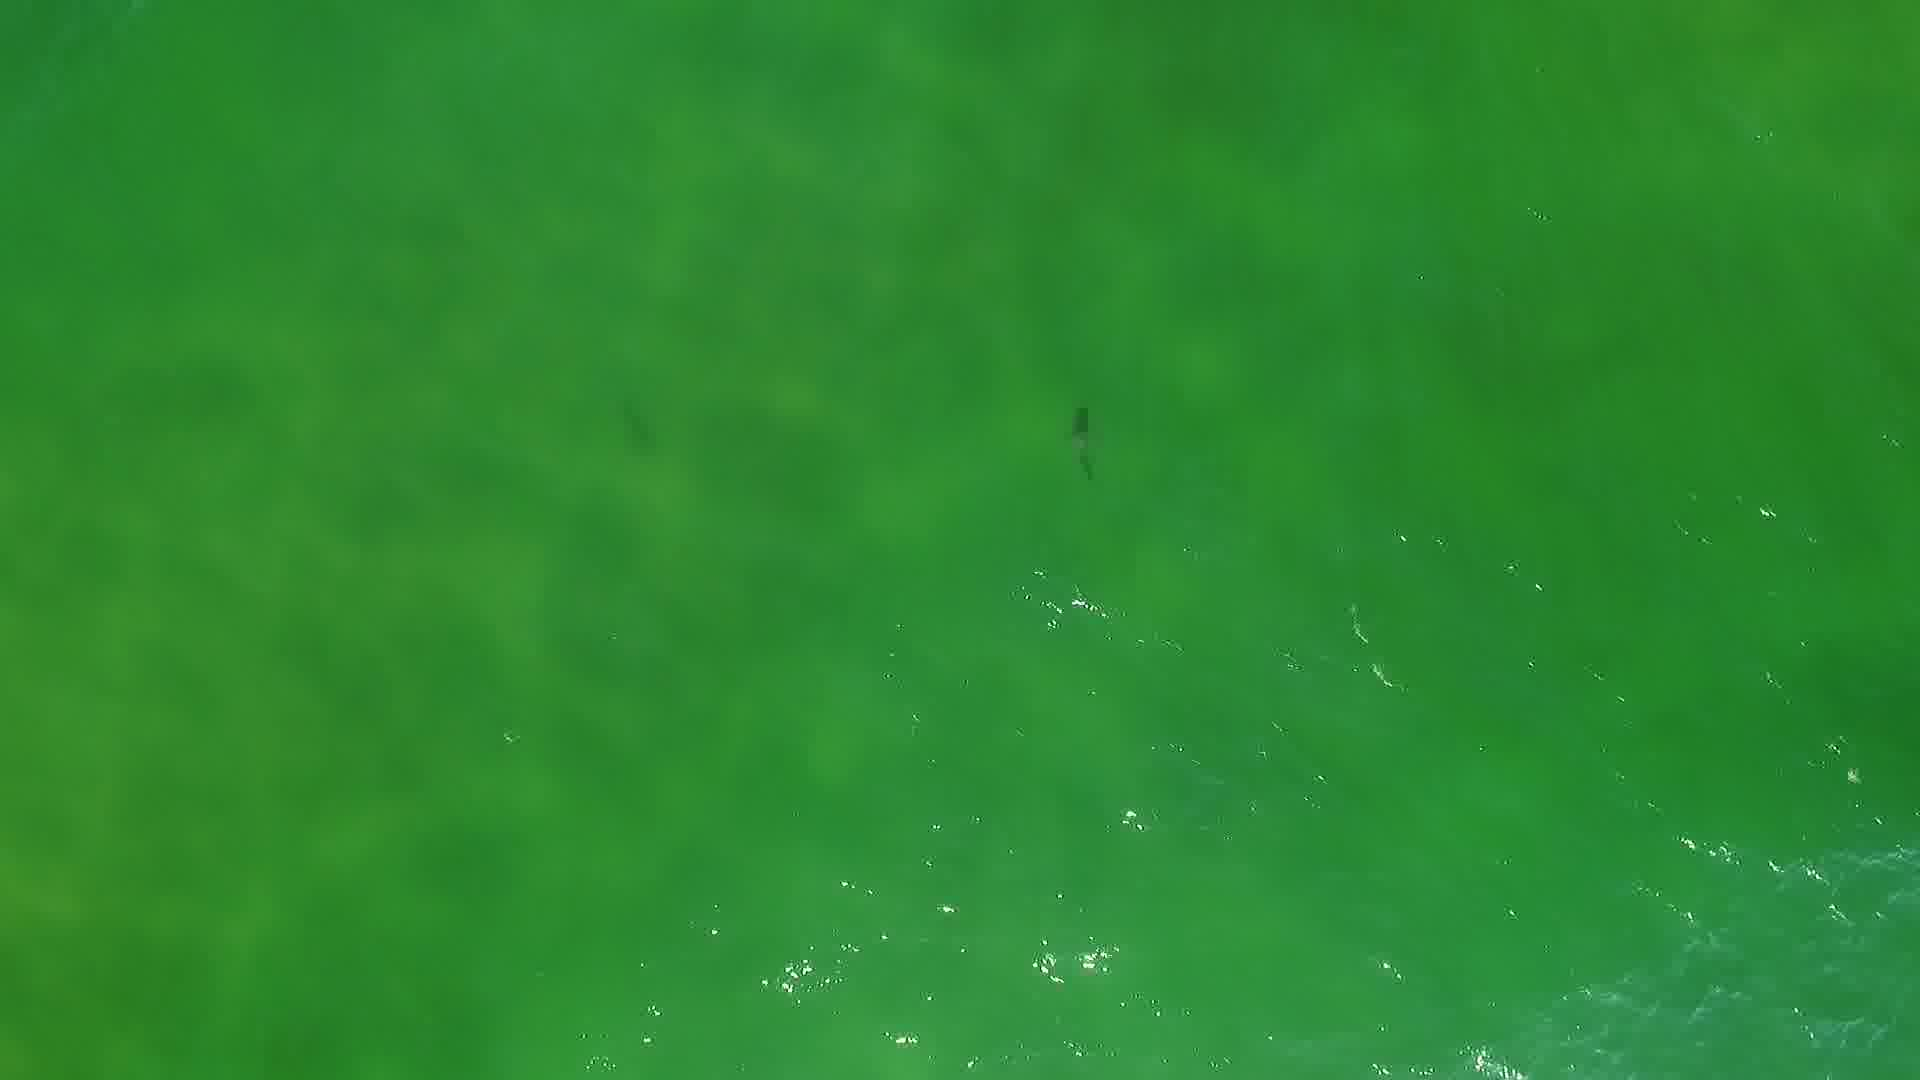shark: (1062, 401, 1106, 485)
